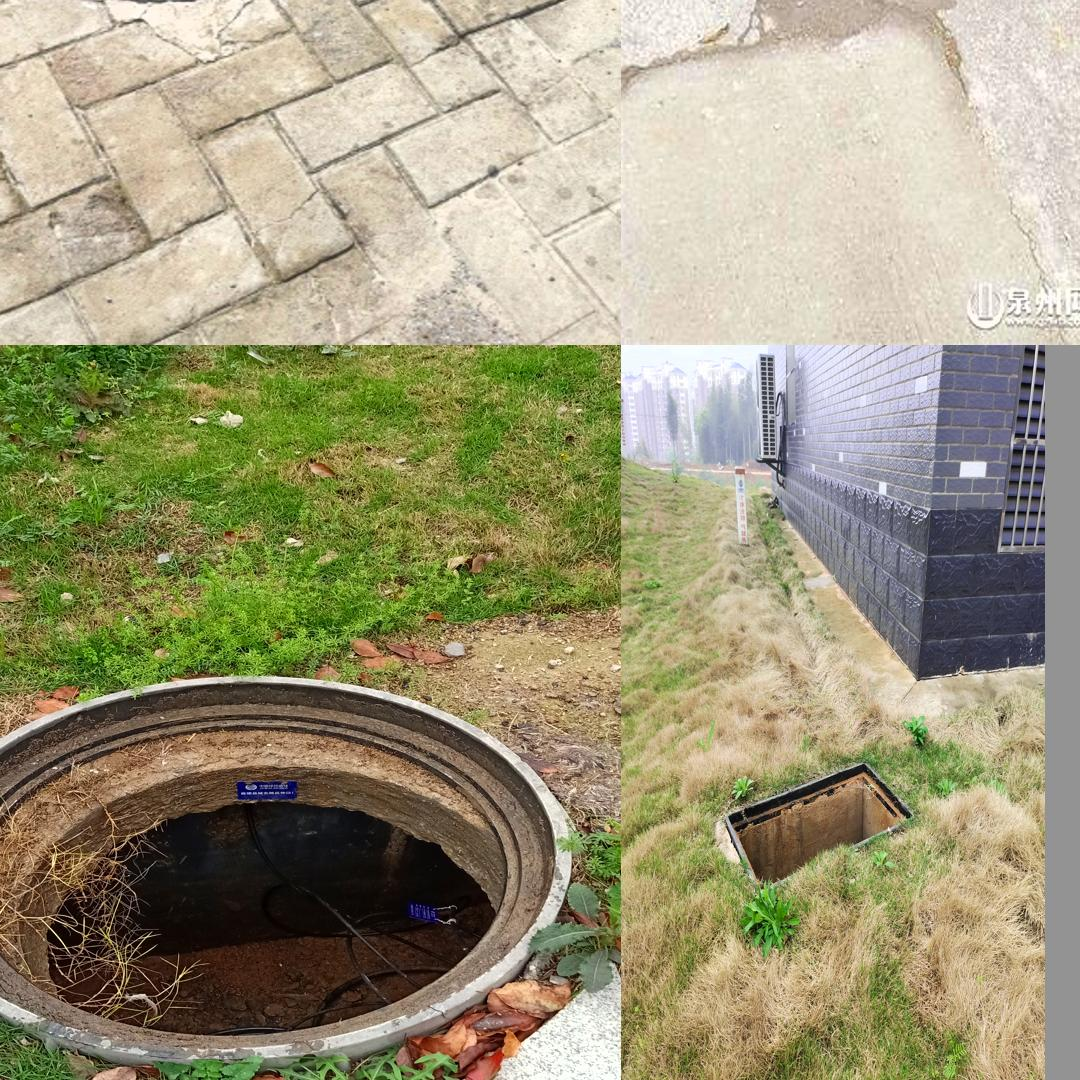lose: (0, 674, 579, 1071), (725, 761, 919, 890), (0, 0, 395, 3)
